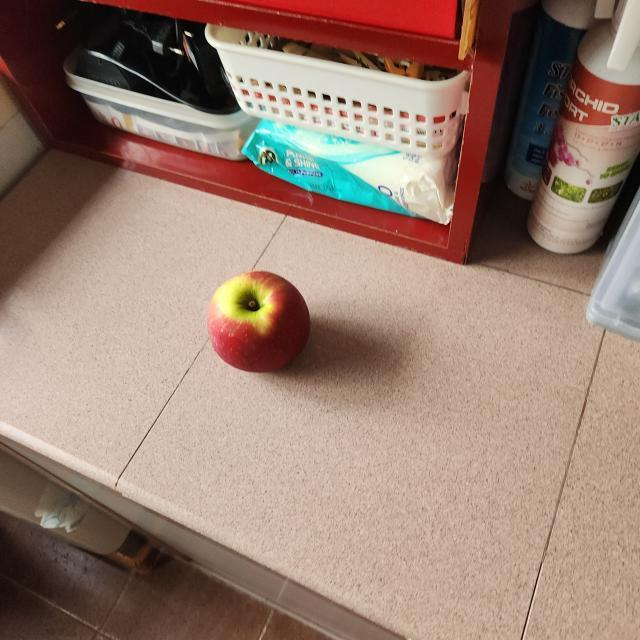apple: (201, 261, 317, 383)
